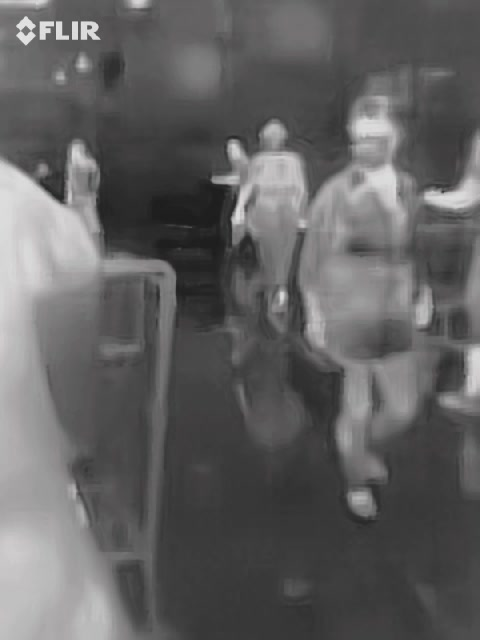head: (343, 93, 403, 165)
